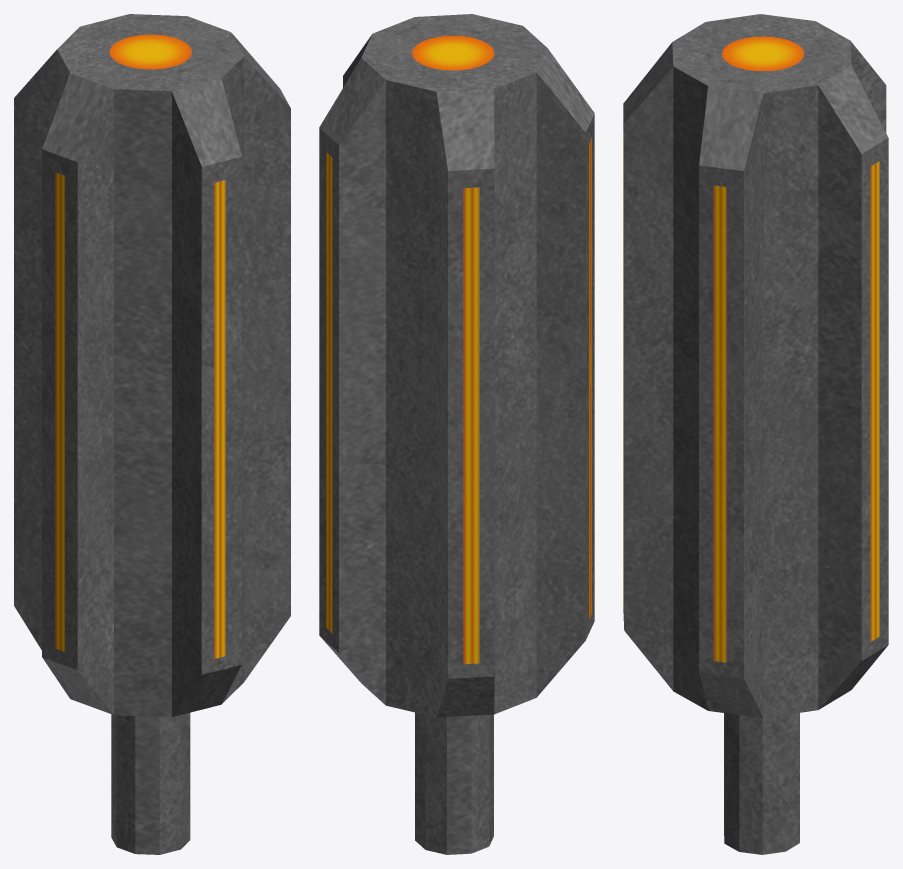
File: EnergieCylidner.FBX
3 views of the same model, side by side, from view 1: azimuth 30°, elevation 25°; view 2: azimuth 150°, elevation 25°; view 3: azimuth 270°, elevation 25° (orthographic).
Parts seen in each view (by area): view 1: EnergieCylinder; view 2: EnergieCylinder; view 3: EnergieCylinder.
Boxes of the visible parts, box(x1,y1,x2,y2) form: EnergieCylinder: box(14, 14, 290, 854); EnergieCylinder: box(319, 14, 594, 854); EnergieCylinder: box(623, 14, 888, 854).
Bounding box in the file's own units: 22.3 × 69.65 × 21.33.
1 material, 1 textured.
